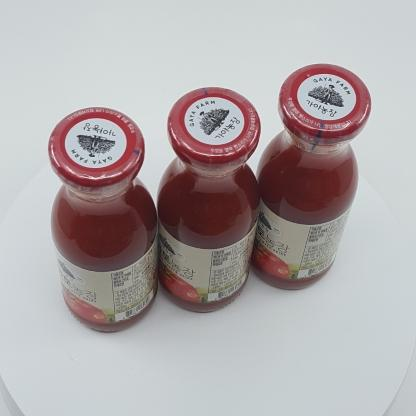-------180ML: (250, 63, 371, 289), (48, 107, 158, 331), (156, 87, 261, 312)
